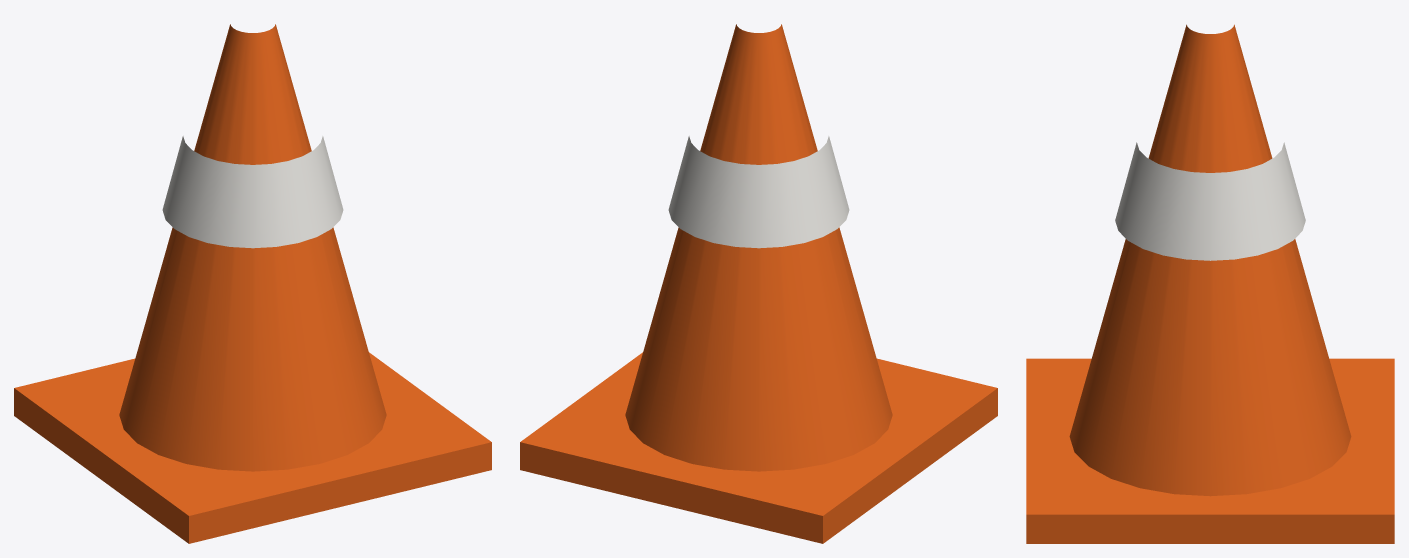
File: train_cone.glb
3 renders of one model, left to right at view 1: azimuth 30°, elevation 25°; view 2: azimuth 150°, elevation 25°; view 3: azimuth 270°, elevation 25°, orthographic. The views are drawn at different scales.
Visible parts, largest first — view 1: cone_body, cone_base, cone_band; view 2: cone_body, cone_base, cone_band; view 3: cone_body, cone_base, cone_band.
Boxes of the visible parts, x1,y1,x2,y2 form: cone_body: (119,24,386,471); cone_base: (14,352,491,543); cone_band: (162,136,343,248); cone_body: (625,24,892,471); cone_base: (520,352,997,543); cone_band: (668,136,849,248); cone_body: (1069,24,1351,496); cone_base: (1026,358,1394,543); cone_band: (1115,142,1305,260).
Size of the model in its own units: 0.34 by 0.45 by 0.34.
